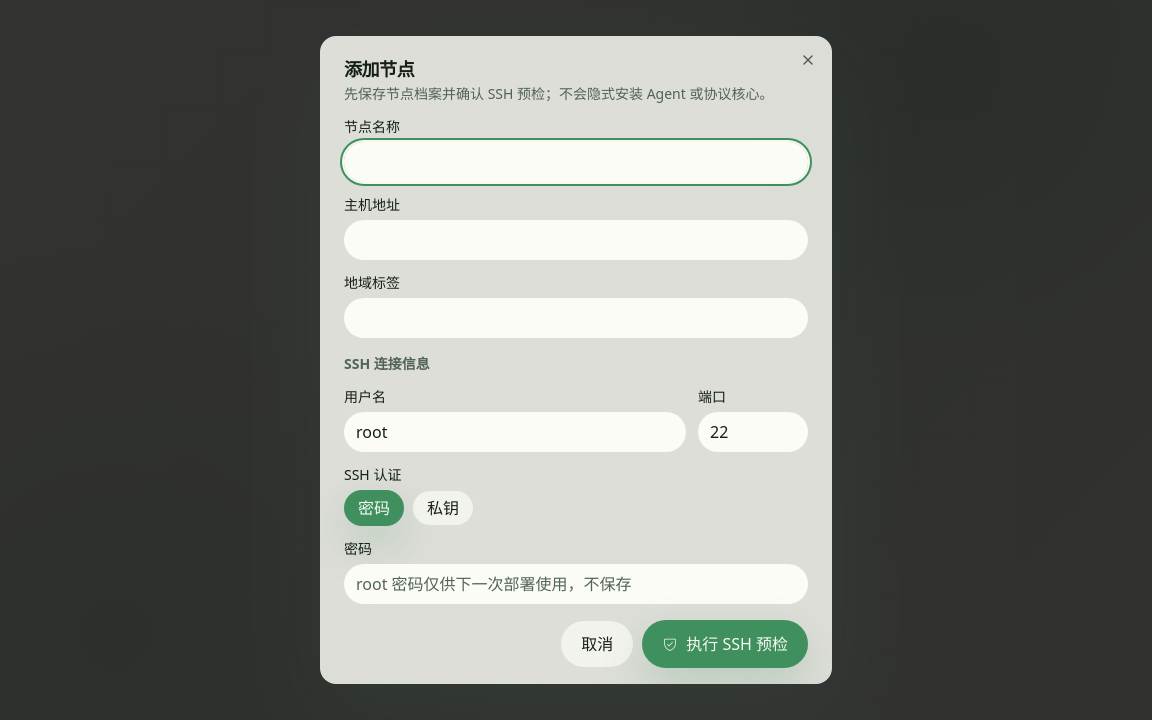
Test: AddNodeForm › keeps form values and creates nothing when preflight fails
Type "新加坡" into the field labelled "节点名称" at x=576, y=162, box [344, 142, 808, 182]
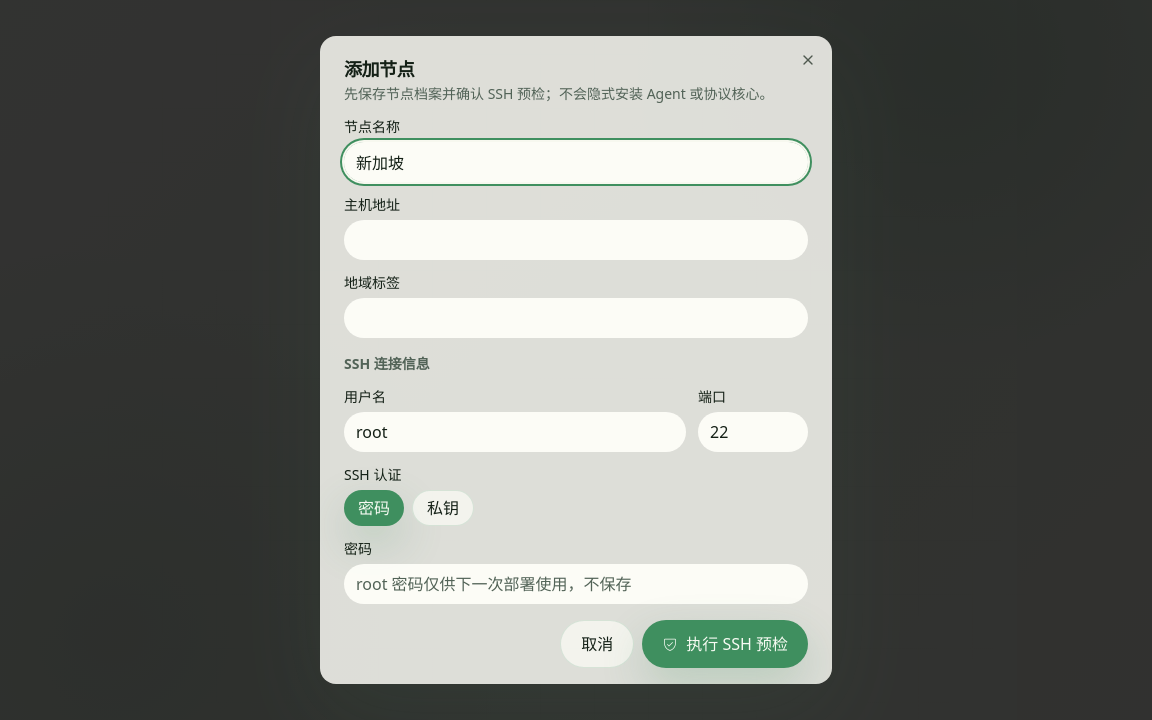
Type "sg.example.com" into the field labelled "主机地址" at x=576, y=240, box [344, 220, 808, 260]
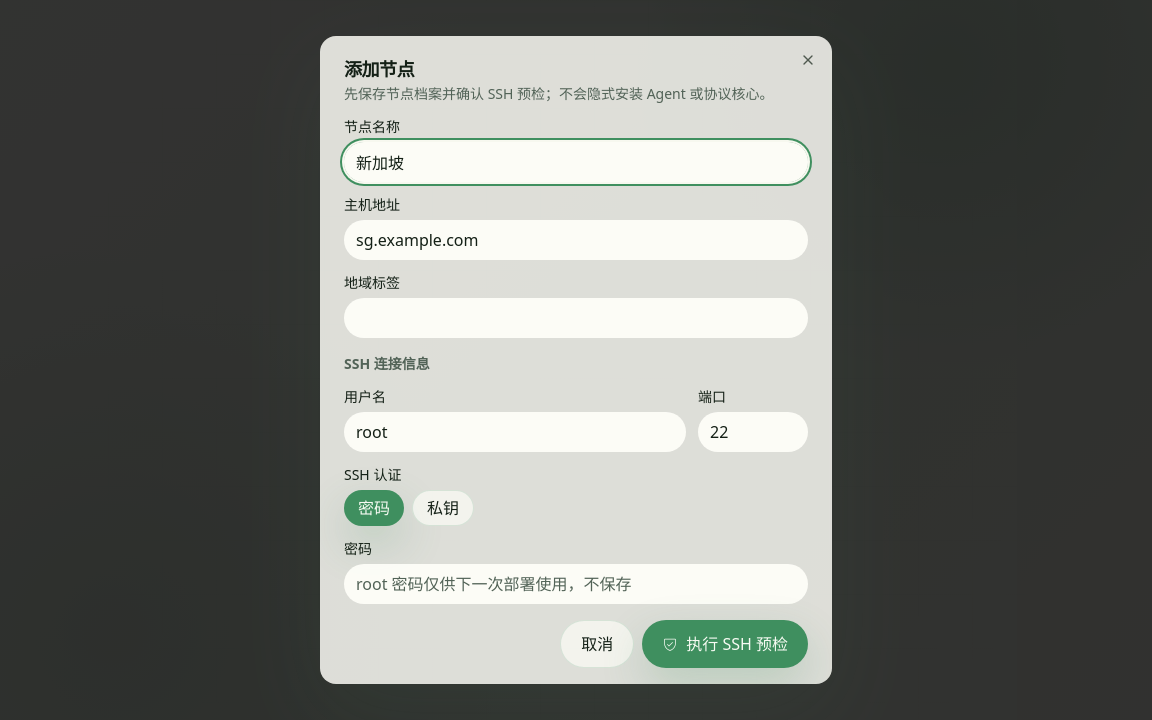
Type "SG" into the field labelled "地域标签" at x=576, y=318, box [344, 298, 808, 338]
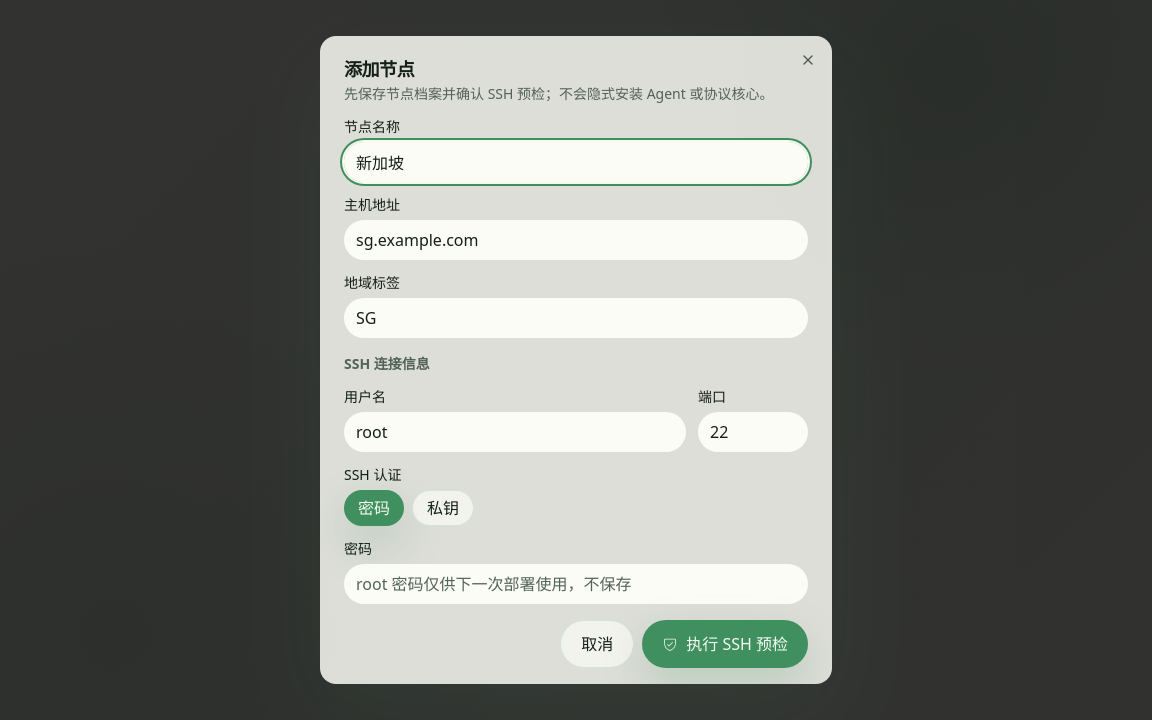
Type "secret" into the password field labelled "密码" at x=576, y=584, box [344, 564, 808, 604]
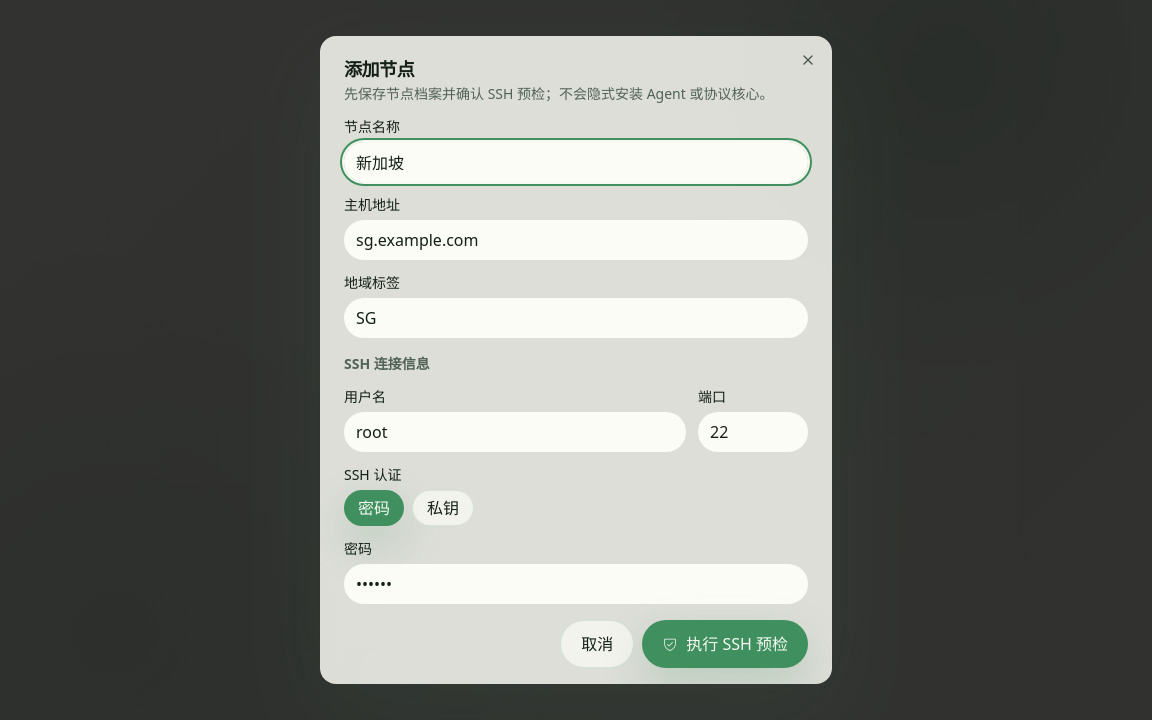
Click the button "执行 SSH 预检" at x=725, y=644, box [642, 620, 808, 668]
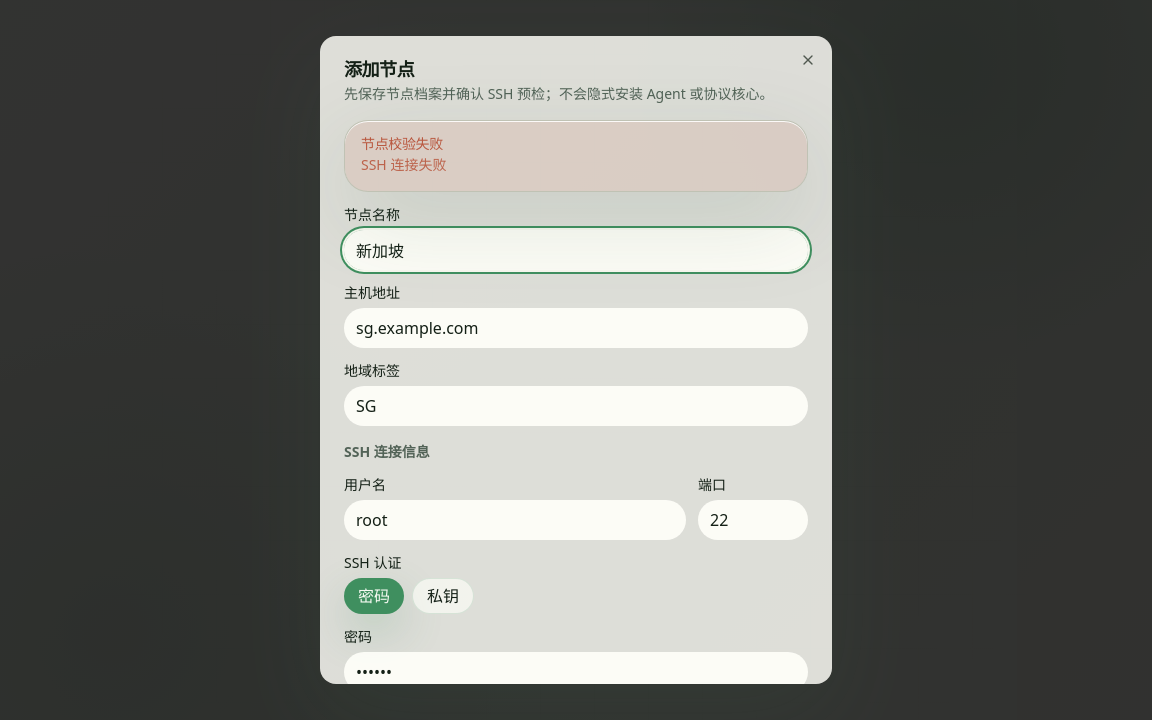
Expected: the text "SSH 连接失败" is shown, [361, 155, 446, 174]
